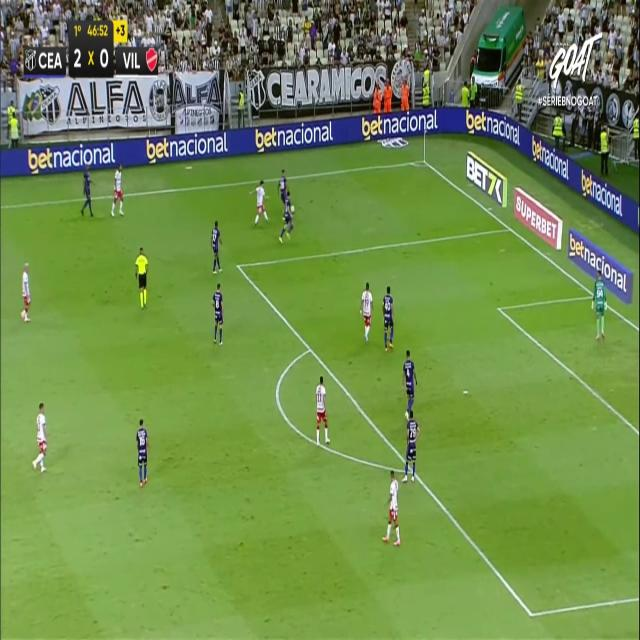ball: (290, 206, 298, 220)
goalkeeper: (591, 270, 607, 340)
player: (382, 468, 401, 546), (401, 408, 420, 482), (32, 402, 48, 472), (402, 348, 418, 418), (78, 163, 98, 218), (272, 165, 292, 220), (315, 375, 330, 445), (249, 178, 269, 228), (359, 281, 373, 342), (136, 418, 148, 487), (278, 195, 295, 242), (382, 284, 394, 350), (212, 282, 224, 345), (110, 163, 124, 216), (210, 220, 222, 274), (21, 262, 31, 322)
referee: (134, 246, 148, 308)
